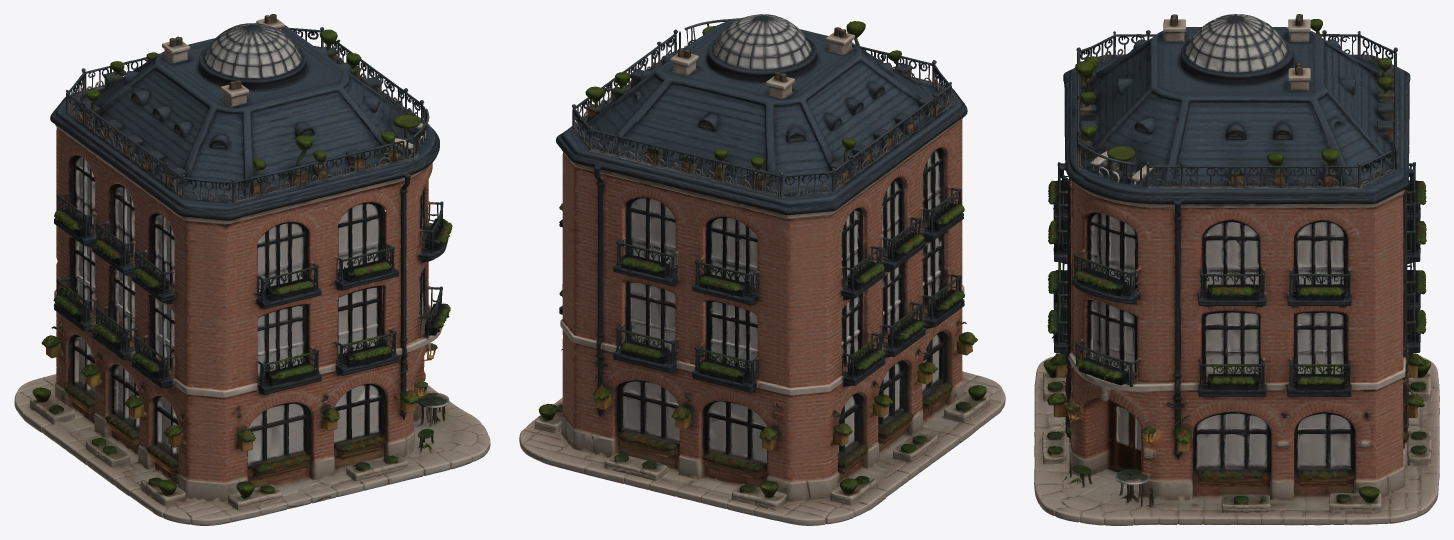
File: hotelcnr.glb
3 views of the same model, side by side, from view 1: azimuth 30°, elevation 25°; view 2: azimuth 150°, elevation 25°; view 3: azimuth 270°, elevation 25° (orthographic). The views are drawn at different scales.
Parts seen in each view (by area): view 1: tripo_node_49c90adb-3e5c-4162-a032-27ce738b3c23; view 2: tripo_node_49c90adb-3e5c-4162-a032-27ce738b3c23; view 3: tripo_node_49c90adb-3e5c-4162-a032-27ce738b3c23.
Boxes of the visible parts, bbox=[...] form: tripo_node_49c90adb-3e5c-4162-a032-27ce738b3c23: bbox=[14, 14, 490, 525]; tripo_node_49c90adb-3e5c-4162-a032-27ce738b3c23: bbox=[519, 14, 1005, 525]; tripo_node_49c90adb-3e5c-4162-a032-27ce738b3c23: bbox=[1034, 14, 1439, 525].
Size of the model in its own units: 1.06 by 1.2 by 1.05.
Materials: 1 (1 with a texture image).
